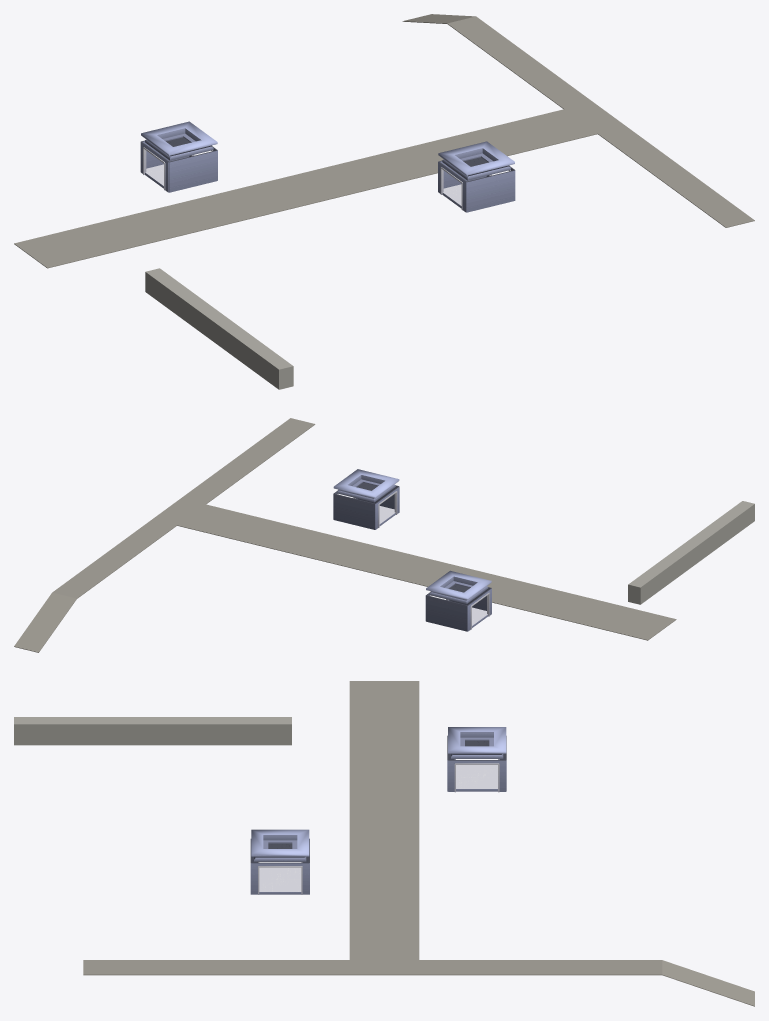
Rendered from town-0-2.glb.
The picture shows the model from 3 angles, top to bottom: view 1: azimuth 30°, elevation 25°; view 2: azimuth 150°, elevation 25°; view 3: azimuth 270°, elevation 25°; orthographic projection. The views are drawn at different scales.
Visible parts, largest first — view 1: town-0-2; view 2: town-0-2; view 3: town-0-2.
Part boxes in pixels (x1,y1,x2,y2): town-0-2: (14,14,754,389); town-0-2: (14,418,754,652); town-0-2: (14,681,754,1006).
Bounding box in the file's own units: 120 × 13.7 × 128.
Materials: 19 (16 with a texture image).
